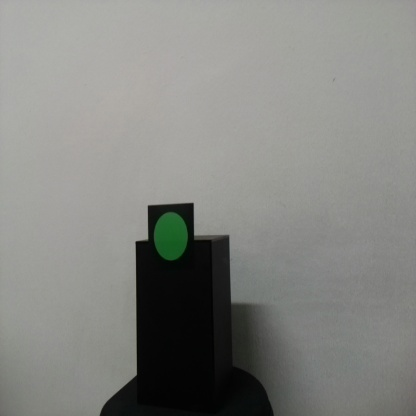id_5: (148, 204, 194, 276)
